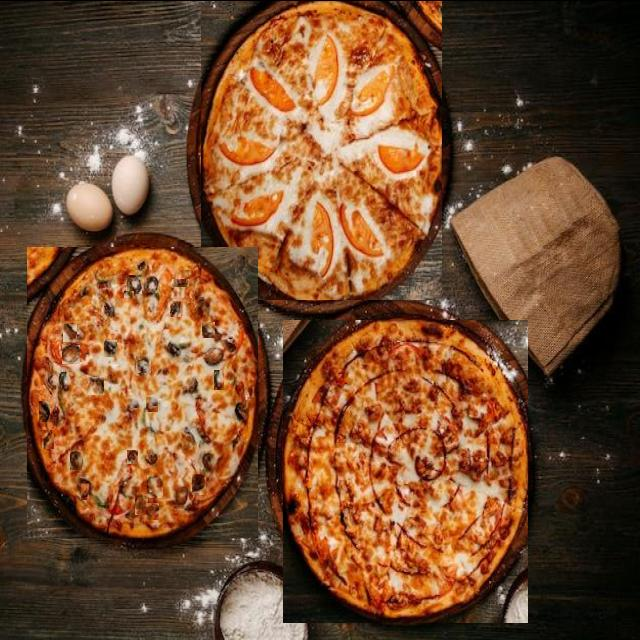olive: (147, 474, 163, 496), (62, 344, 80, 362), (126, 274, 142, 292), (88, 374, 104, 392), (192, 473, 206, 493), (136, 493, 150, 513), (98, 482, 111, 503), (47, 332, 60, 351), (136, 355, 151, 371), (63, 322, 77, 339), (39, 400, 50, 420), (90, 423, 101, 443), (70, 450, 82, 468), (42, 429, 54, 447), (104, 339, 117, 355), (202, 321, 215, 336), (146, 394, 158, 410), (147, 502, 159, 518), (214, 369, 224, 388), (170, 300, 181, 315), (127, 449, 138, 462), (195, 283, 205, 297), (81, 482, 89, 498), (172, 278, 189, 285), (124, 290, 134, 296), (140, 260, 147, 267)
pizza: (283, 319, 528, 622), (201, 0, 442, 299), (27, 244, 258, 536)
